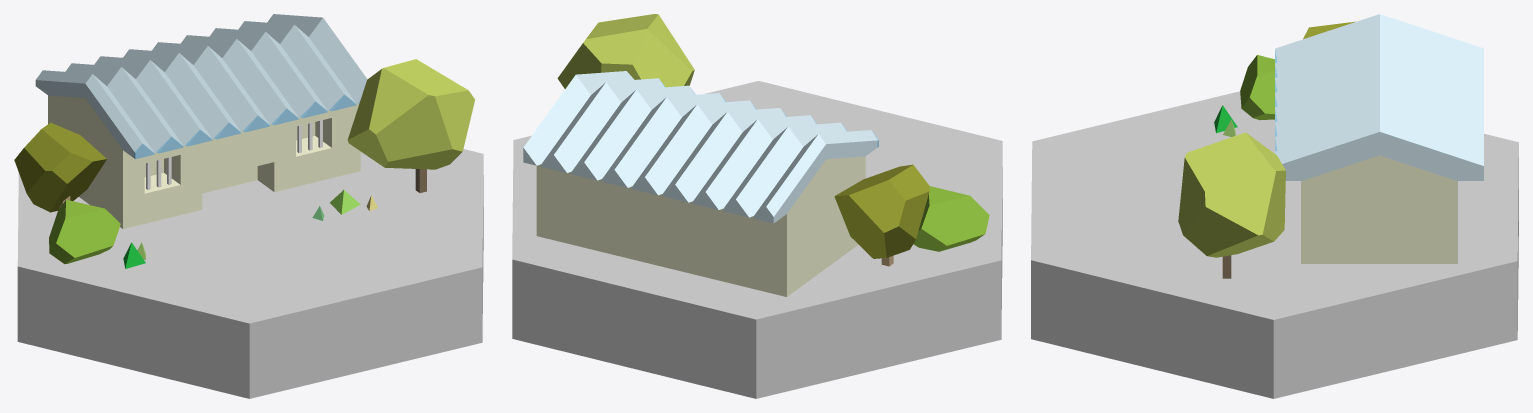
File: 治沙站.fbx
The picture shows the model from 3 angles, left to right: view 1: azimuth 30°, elevation 25°; view 2: azimuth 150°, elevation 25°; view 3: azimuth 270°, elevation 25°; orthographic projection. The views are drawn at different scales.
Parts seen in each view (by area): view 1: 物件_1, 物件_32, 物件_30, 物件_10, 物件_14, 物件_16, 物件_24; view 2: 物件_1, 物件_32, 物件_30, 物件_10, 物件_14, 物件_16; view 3: 物件_1, 物件_32, 物件_30, 物件_10, 物件_16.
Boxes of the visible parts, x1,y1,x2,y2 form: 物件_1: (17, 149, 483, 398); 物件_32: (35, 14, 367, 157); 物件_30: (48, 95, 360, 228); 物件_10: (347, 59, 474, 169); 物件_14: (14, 122, 106, 212); 物件_16: (49, 199, 120, 264); 物件_24: (330, 190, 360, 214); 物件_1: (512, 81, 1002, 398); 物件_32: (523, 71, 877, 223); 物件_30: (536, 156, 865, 296); 物件_10: (557, 14, 694, 88); 物件_14: (834, 164, 929, 258); 物件_16: (913, 186, 989, 251); 物件_1: (1031, 91, 1518, 398); 物件_32: (1275, 14, 1483, 180); 物件_30: (1301, 155, 1457, 263); 物件_10: (1178, 132, 1285, 257); 物件_16: (1240, 55, 1274, 120).
Bounding box in the file's own units: 129 × 112 × 53.43.
